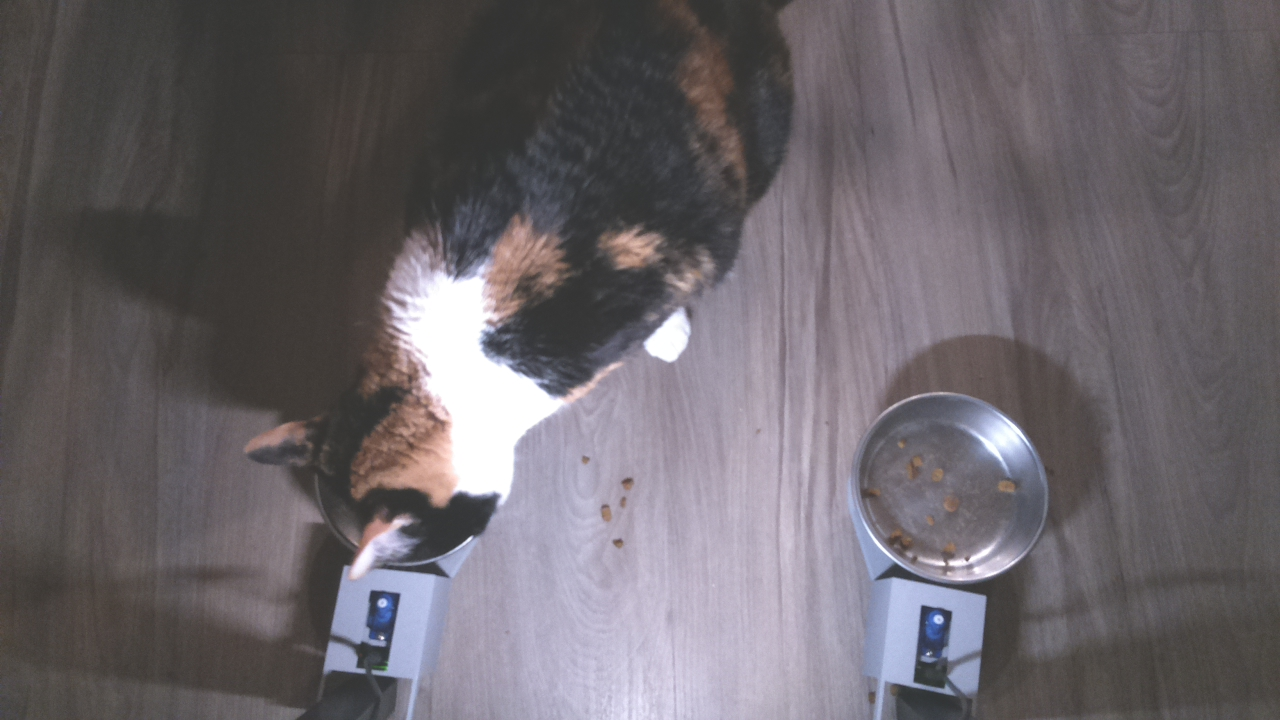bella_eating: (235, 277, 559, 587)
open_bowl: (844, 387, 1052, 594)
